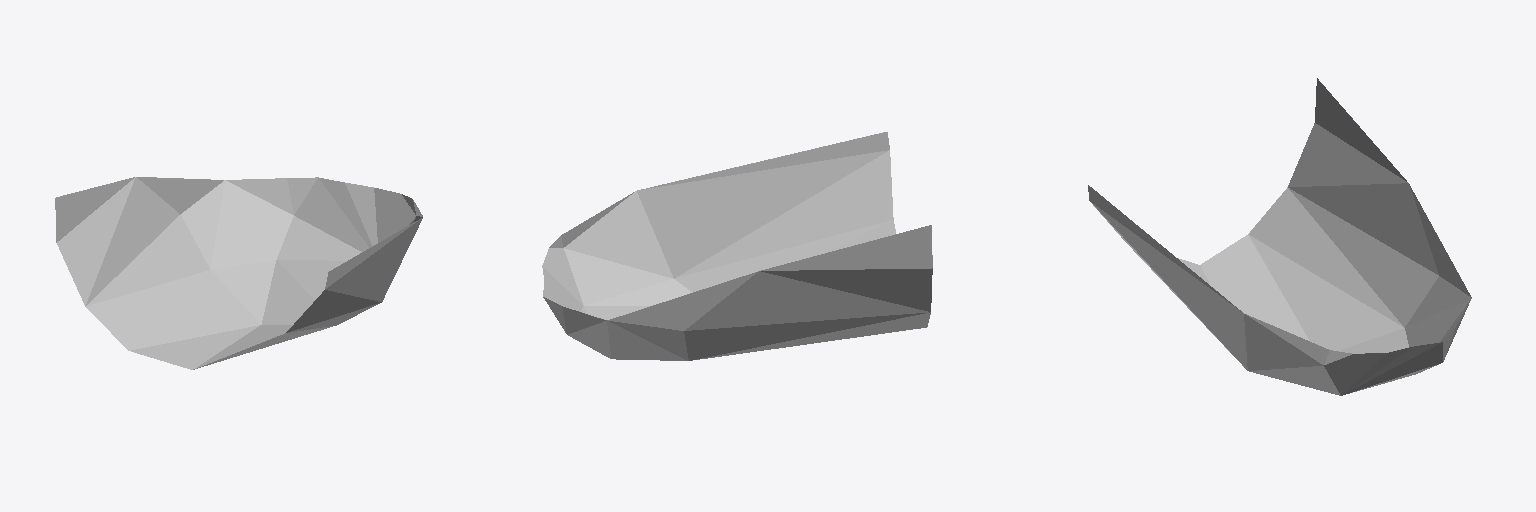
Rendered from HAND_new_49.obj.
3 renders of one model, left to right at view 1: azimuth 30°, elevation 25°; view 2: azimuth 150°, elevation 25°; view 3: azimuth 270°, elevation 25°, orthographic.
Size of the model in its own units: 12.49 by 5.85 by 11.38.